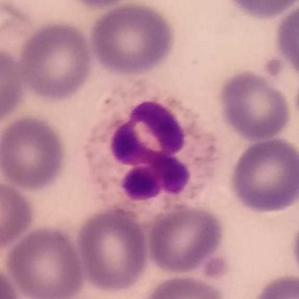Neutrophil: (80, 81, 219, 217)
Platelets: (196, 255, 234, 283), (260, 52, 286, 81)
RBC: (87, 0, 178, 78), (73, 204, 150, 294), (15, 18, 96, 103), (144, 202, 229, 276), (4, 224, 87, 299), (215, 68, 294, 142), (226, 136, 299, 215), (0, 113, 69, 192), (0, 177, 37, 252), (138, 272, 230, 299), (0, 45, 27, 127), (272, 1, 299, 77), (222, 0, 298, 20), (247, 272, 299, 298), (289, 210, 299, 288), (0, 264, 22, 299), (60, 0, 138, 9)
